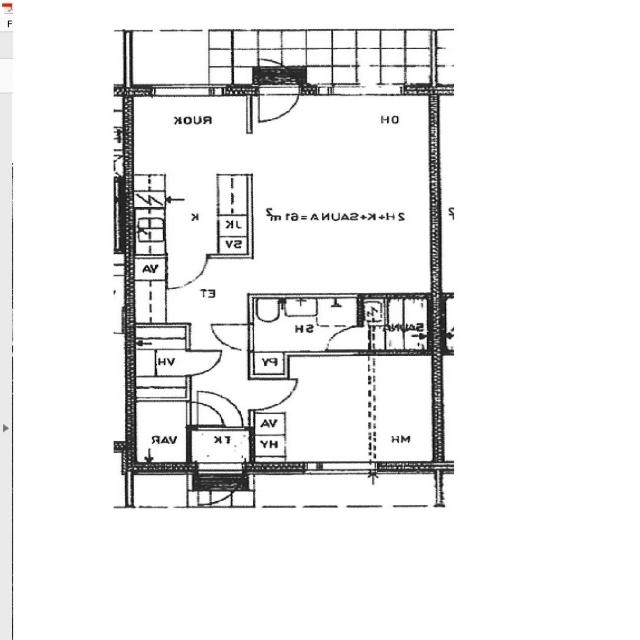door: (187, 392, 240, 429), (255, 84, 300, 126), (164, 257, 209, 291), (253, 378, 297, 411), (209, 322, 254, 351), (181, 348, 224, 378), (322, 324, 367, 352), (208, 488, 234, 505)
window: (306, 461, 372, 479), (153, 84, 220, 100)
zone: (253, 354, 434, 466), (251, 297, 362, 352), (131, 397, 189, 468), (363, 297, 430, 352), (188, 428, 252, 463), (129, 472, 190, 508), (136, 345, 192, 382), (248, 350, 286, 379)
